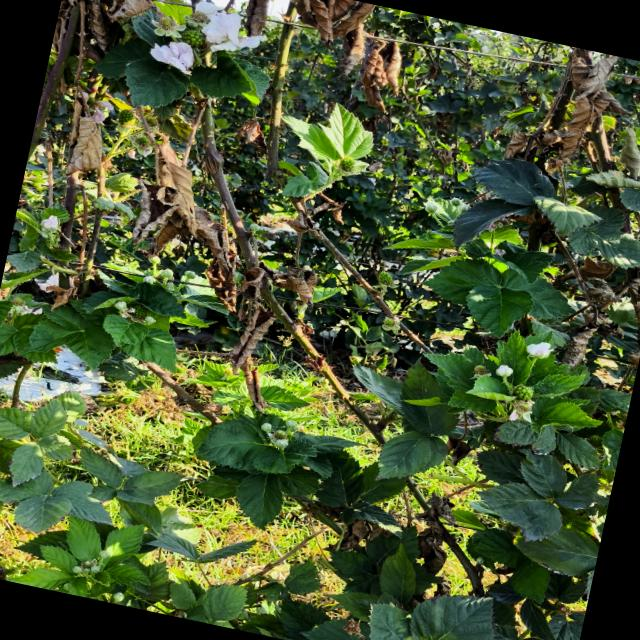boton: (495, 364, 513, 377), (273, 439, 288, 449), (285, 419, 298, 430), (260, 423, 272, 433)
flor: (202, 11, 262, 51), (149, 41, 194, 74), (526, 342, 550, 358)
